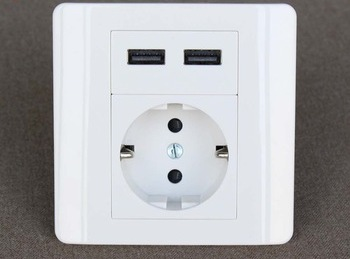raccoon: (118, 101, 230, 212)
